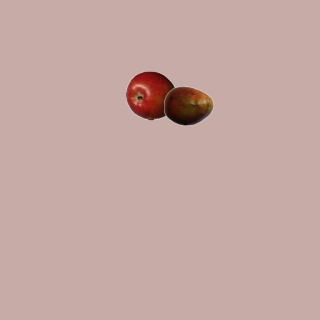Apple Braeburn: (125, 70, 175, 120)
Mango Red: (163, 80, 213, 130)
